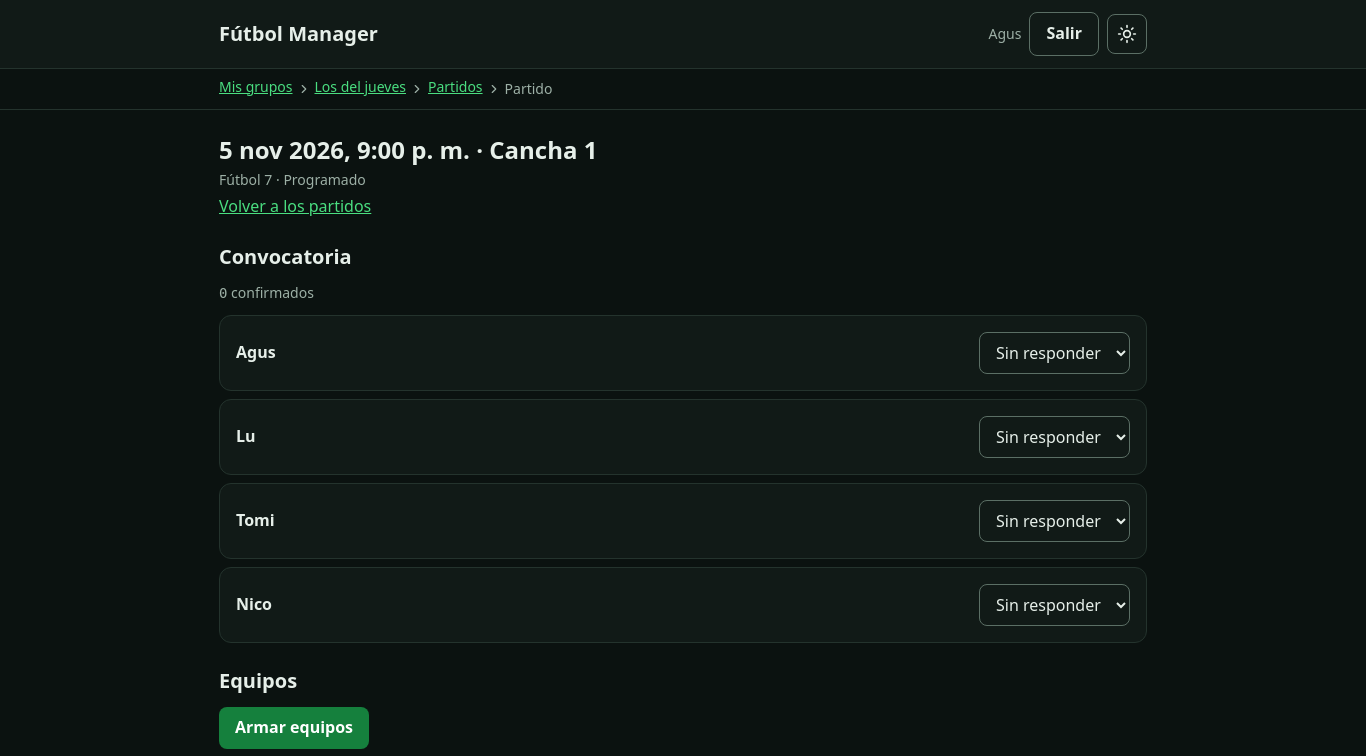
it: MatchSetupPage › avisa cuando la diferencia de cantidad supera 1 y lo quita al volver a 2 contra 2
Click the button "Armar equipos": (294, 728) [219, 707, 369, 749]
(page scrolled)
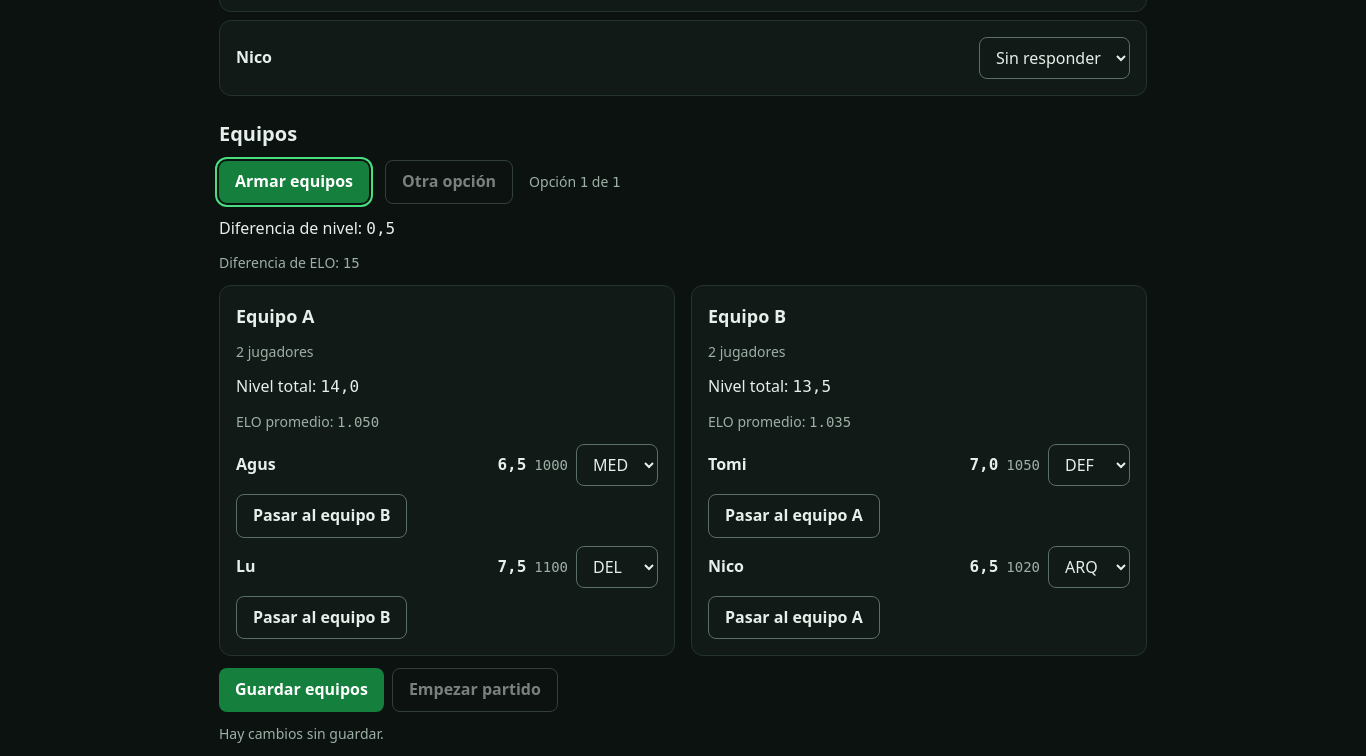
Click the button named "Pasar al equipo B (Agus)": (322, 516) [236, 494, 407, 538]
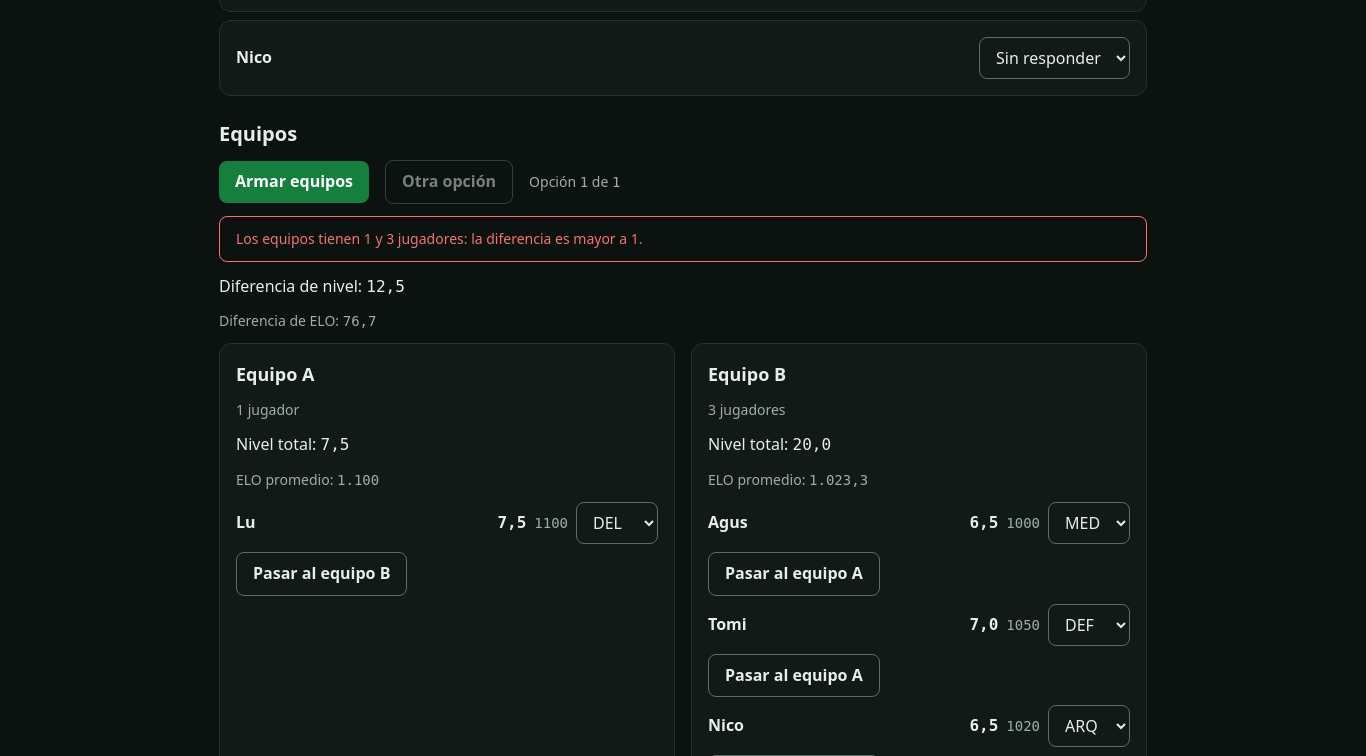
Now the message "Los equipos tienen 1 y 3 jugadores: la diferencia es mayor a 1." is shown, box [219, 216, 1147, 262]
Now the text "Diferencia de nivel: 12,5" is shown, box [219, 275, 405, 297]
Click the button named "Pasar al equipo A (Agus)": (794, 574) [708, 552, 880, 596]
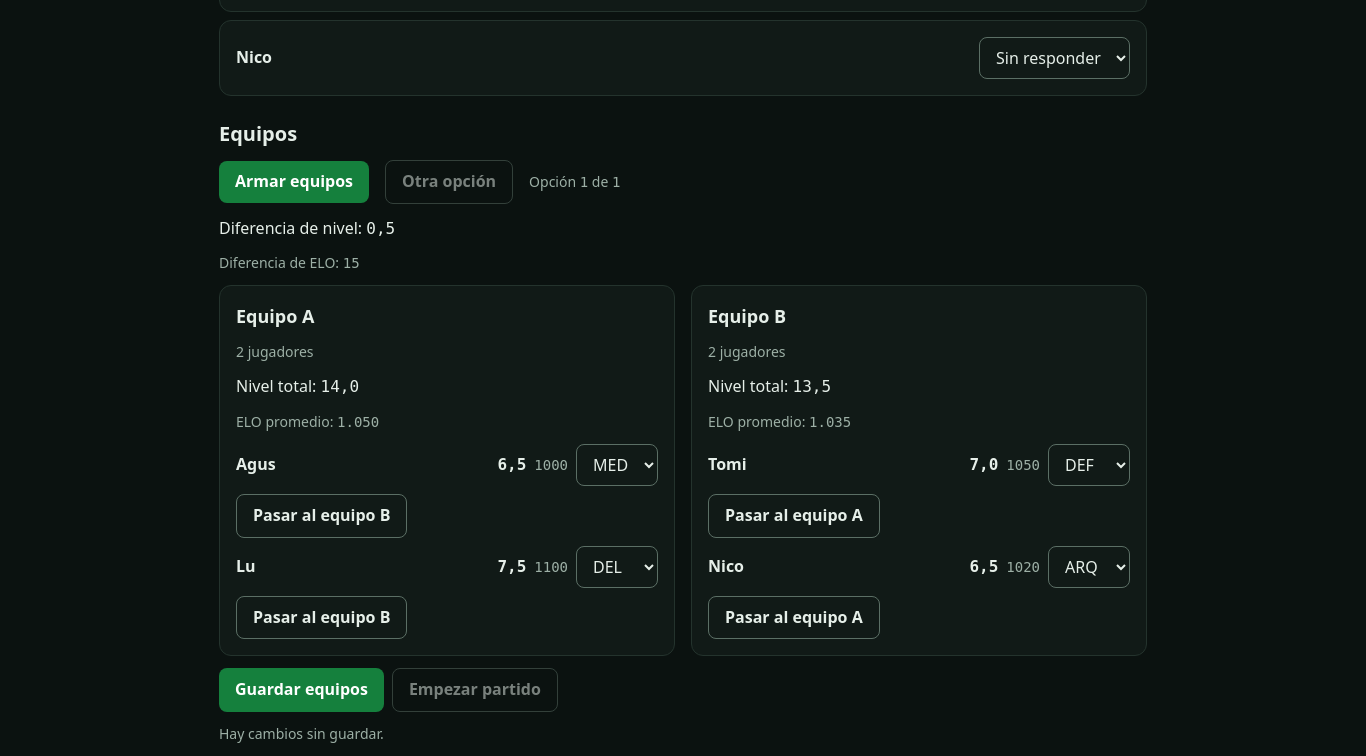
Now the text "Diferencia de nivel: 0,5" is shown, box [219, 217, 395, 239]
